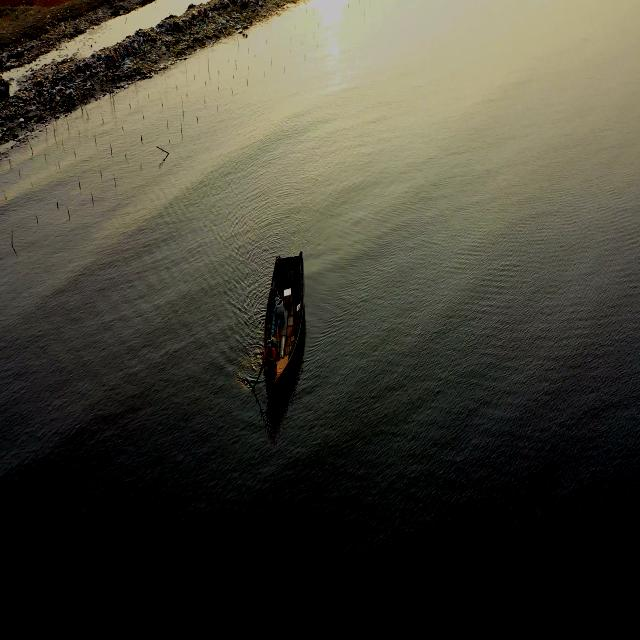ship: (260, 248, 306, 402)
